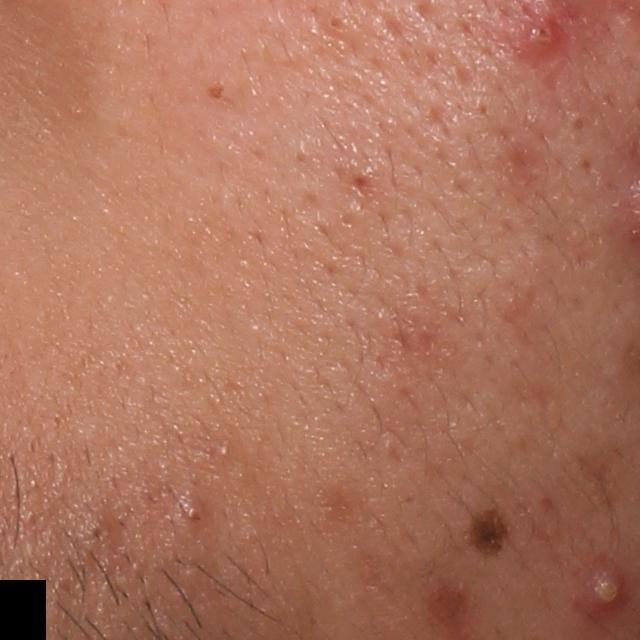comedo: (323, 11, 351, 36), (207, 82, 230, 104), (88, 521, 109, 544), (567, 113, 588, 133)
nevus: (457, 501, 509, 564)
pustule: (503, 8, 571, 69), (581, 569, 627, 615)
